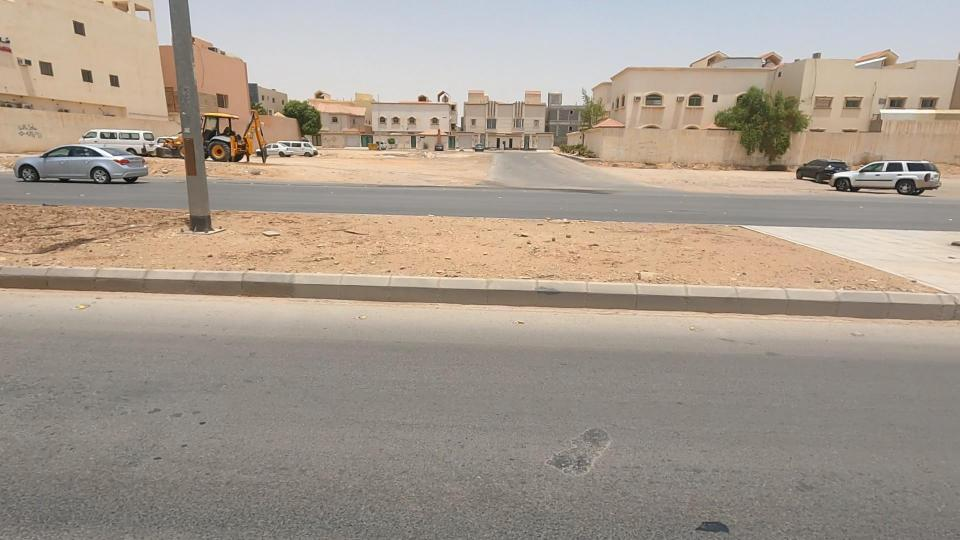CLUTTER_SIDEWALK: (89, 160, 867, 322)
